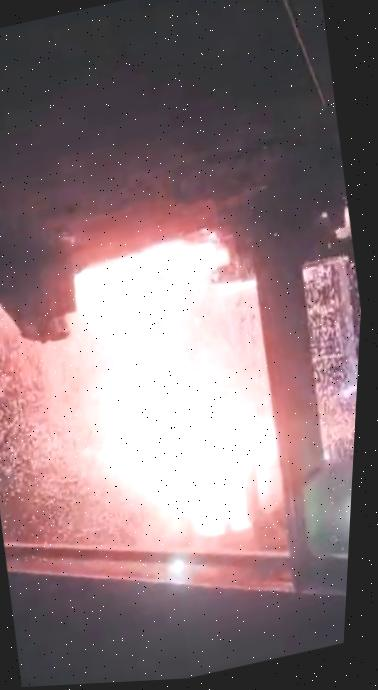fire: (1, 168, 361, 613)
